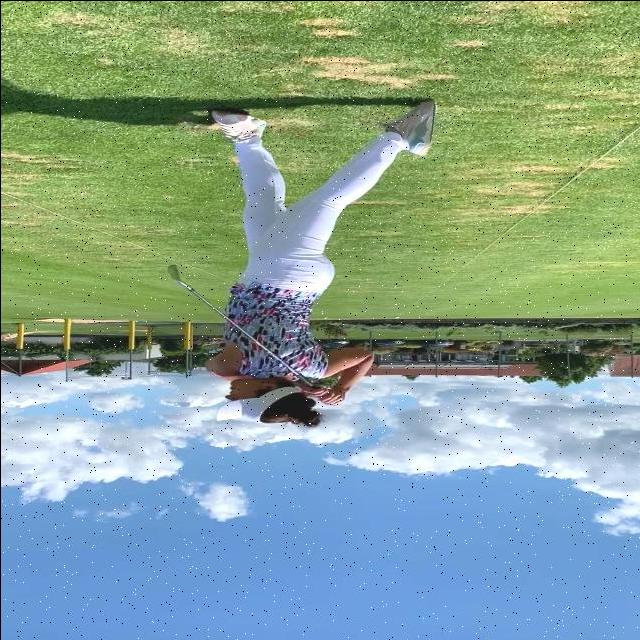ClubHandle: (166, 263, 316, 388)
ClubHead: (165, 263, 182, 282)
